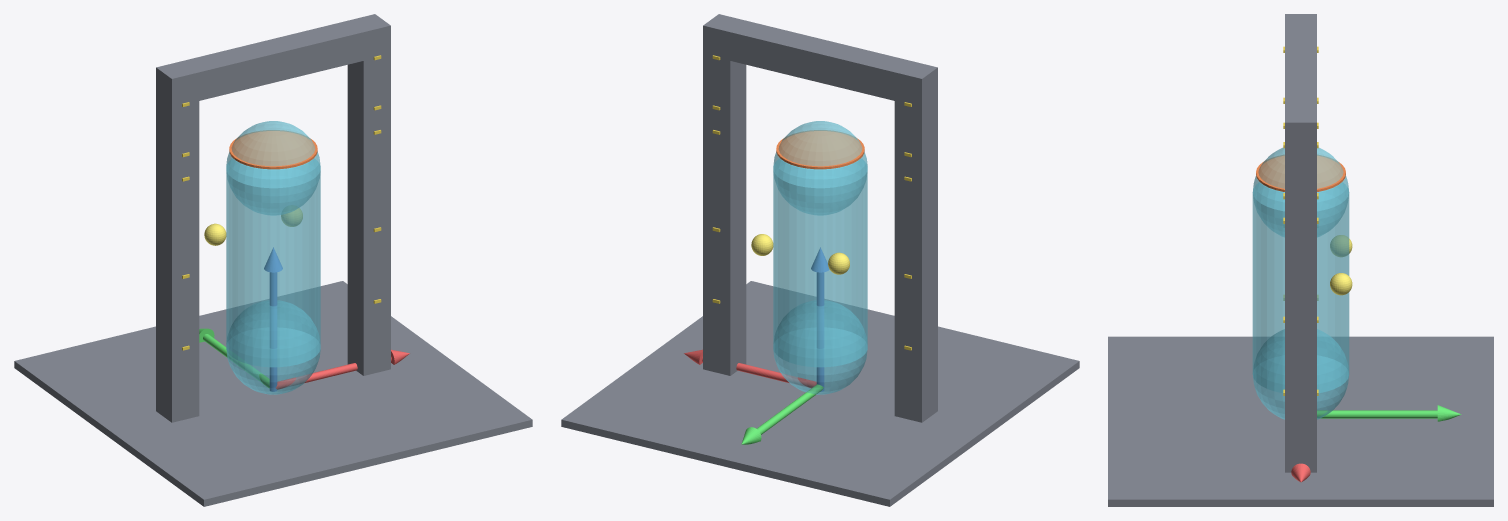
Rendered from calibration_gate.glb.
3 renders of one model, left to right at view 1: azimuth 30°, elevation 25°; view 2: azimuth 150°, elevation 25°; view 3: azimuth 270°, elevation 25°, orthographic.
Parts seen in each view (by area): view 1: Calibration_BasePlate, Player_Capsule_Body, Gate_Left_Post, Gate_Right_Post, Gate_Top_Lintel, Player_Capsule_Bottom, Player_Capsule_Top, Player_Eye_Level_Marker, Axis_Z_Shaft, Axis_X_Shaft, Axis_Y_Shaft; view 2: Calibration_BasePlate, Player_Capsule_Body, Gate_Left_Post, Gate_Right_Post, Gate_Top_Lintel, Player_Capsule_Bottom, Player_Capsule_Top, Player_Eye_Level_Marker, Axis_Z_Shaft, Axis_X_Shaft, Axis_Y_Shaft; view 3: Calibration_BasePlate, Player_Capsule_Body, Gate_Right_Post, Player_Capsule_Bottom, Player_Capsule_Top, Gate_Top_Lintel, Player_Eye_Level_Marker, Axis_Y_Shaft, Gate_Left_Post.
Boxes of the visible parts, x1,y1,x2,y2 form: Calibration_BasePlate: (14,281,532,506); Player_Capsule_Body: (226,158,320,367); Gate_Left_Post: (156,61,199,422); Gate_Right_Post: (347,14,390,375); Gate_Top_Lintel: (156,20,390,107); Player_Capsule_Bottom: (226,300,320,394); Player_Capsule_Top: (226,121,320,215); Player_Eye_Level_Marker: (229,130,317,169); Axis_Z_Shaft: (269,272,277,391); Axis_X_Shaft: (276,357,391,389); Axis_Y_Shaft: (203,334,269,388); Calibration_BasePlate: (561,281,1079,506); Player_Capsule_Body: (773,158,867,367); Gate_Left_Post: (894,61,937,422); Gate_Right_Post: (703,14,746,375); Gate_Top_Lintel: (703,20,937,106); Player_Capsule_Bottom: (773,300,867,394); Player_Capsule_Top: (773,121,867,215); Player_Eye_Level_Marker: (776,130,864,169); Axis_Z_Shaft: (816,272,824,391); Axis_X_Shaft: (702,357,816,388); Axis_Y_Shaft: (756,384,823,434); Calibration_BasePlate: (1108,336,1493,506); Player_Capsule_Body: (1252,182,1349,393); Gate_Right_Post: (1285,109,1316,472); Player_Capsule_Bottom: (1253,329,1348,419); Player_Capsule_Top: (1252,147,1349,237); Gate_Top_Lintel: (1285,27,1316,151); Player_Eye_Level_Marker: (1256,155,1345,191); Axis_Y_Shaft: (1317,410,1437,418); Gate_Left_Post: (1285,14,1316,27).
Size of the model in its own units: 2.4 by 2.45 by 2.4.
